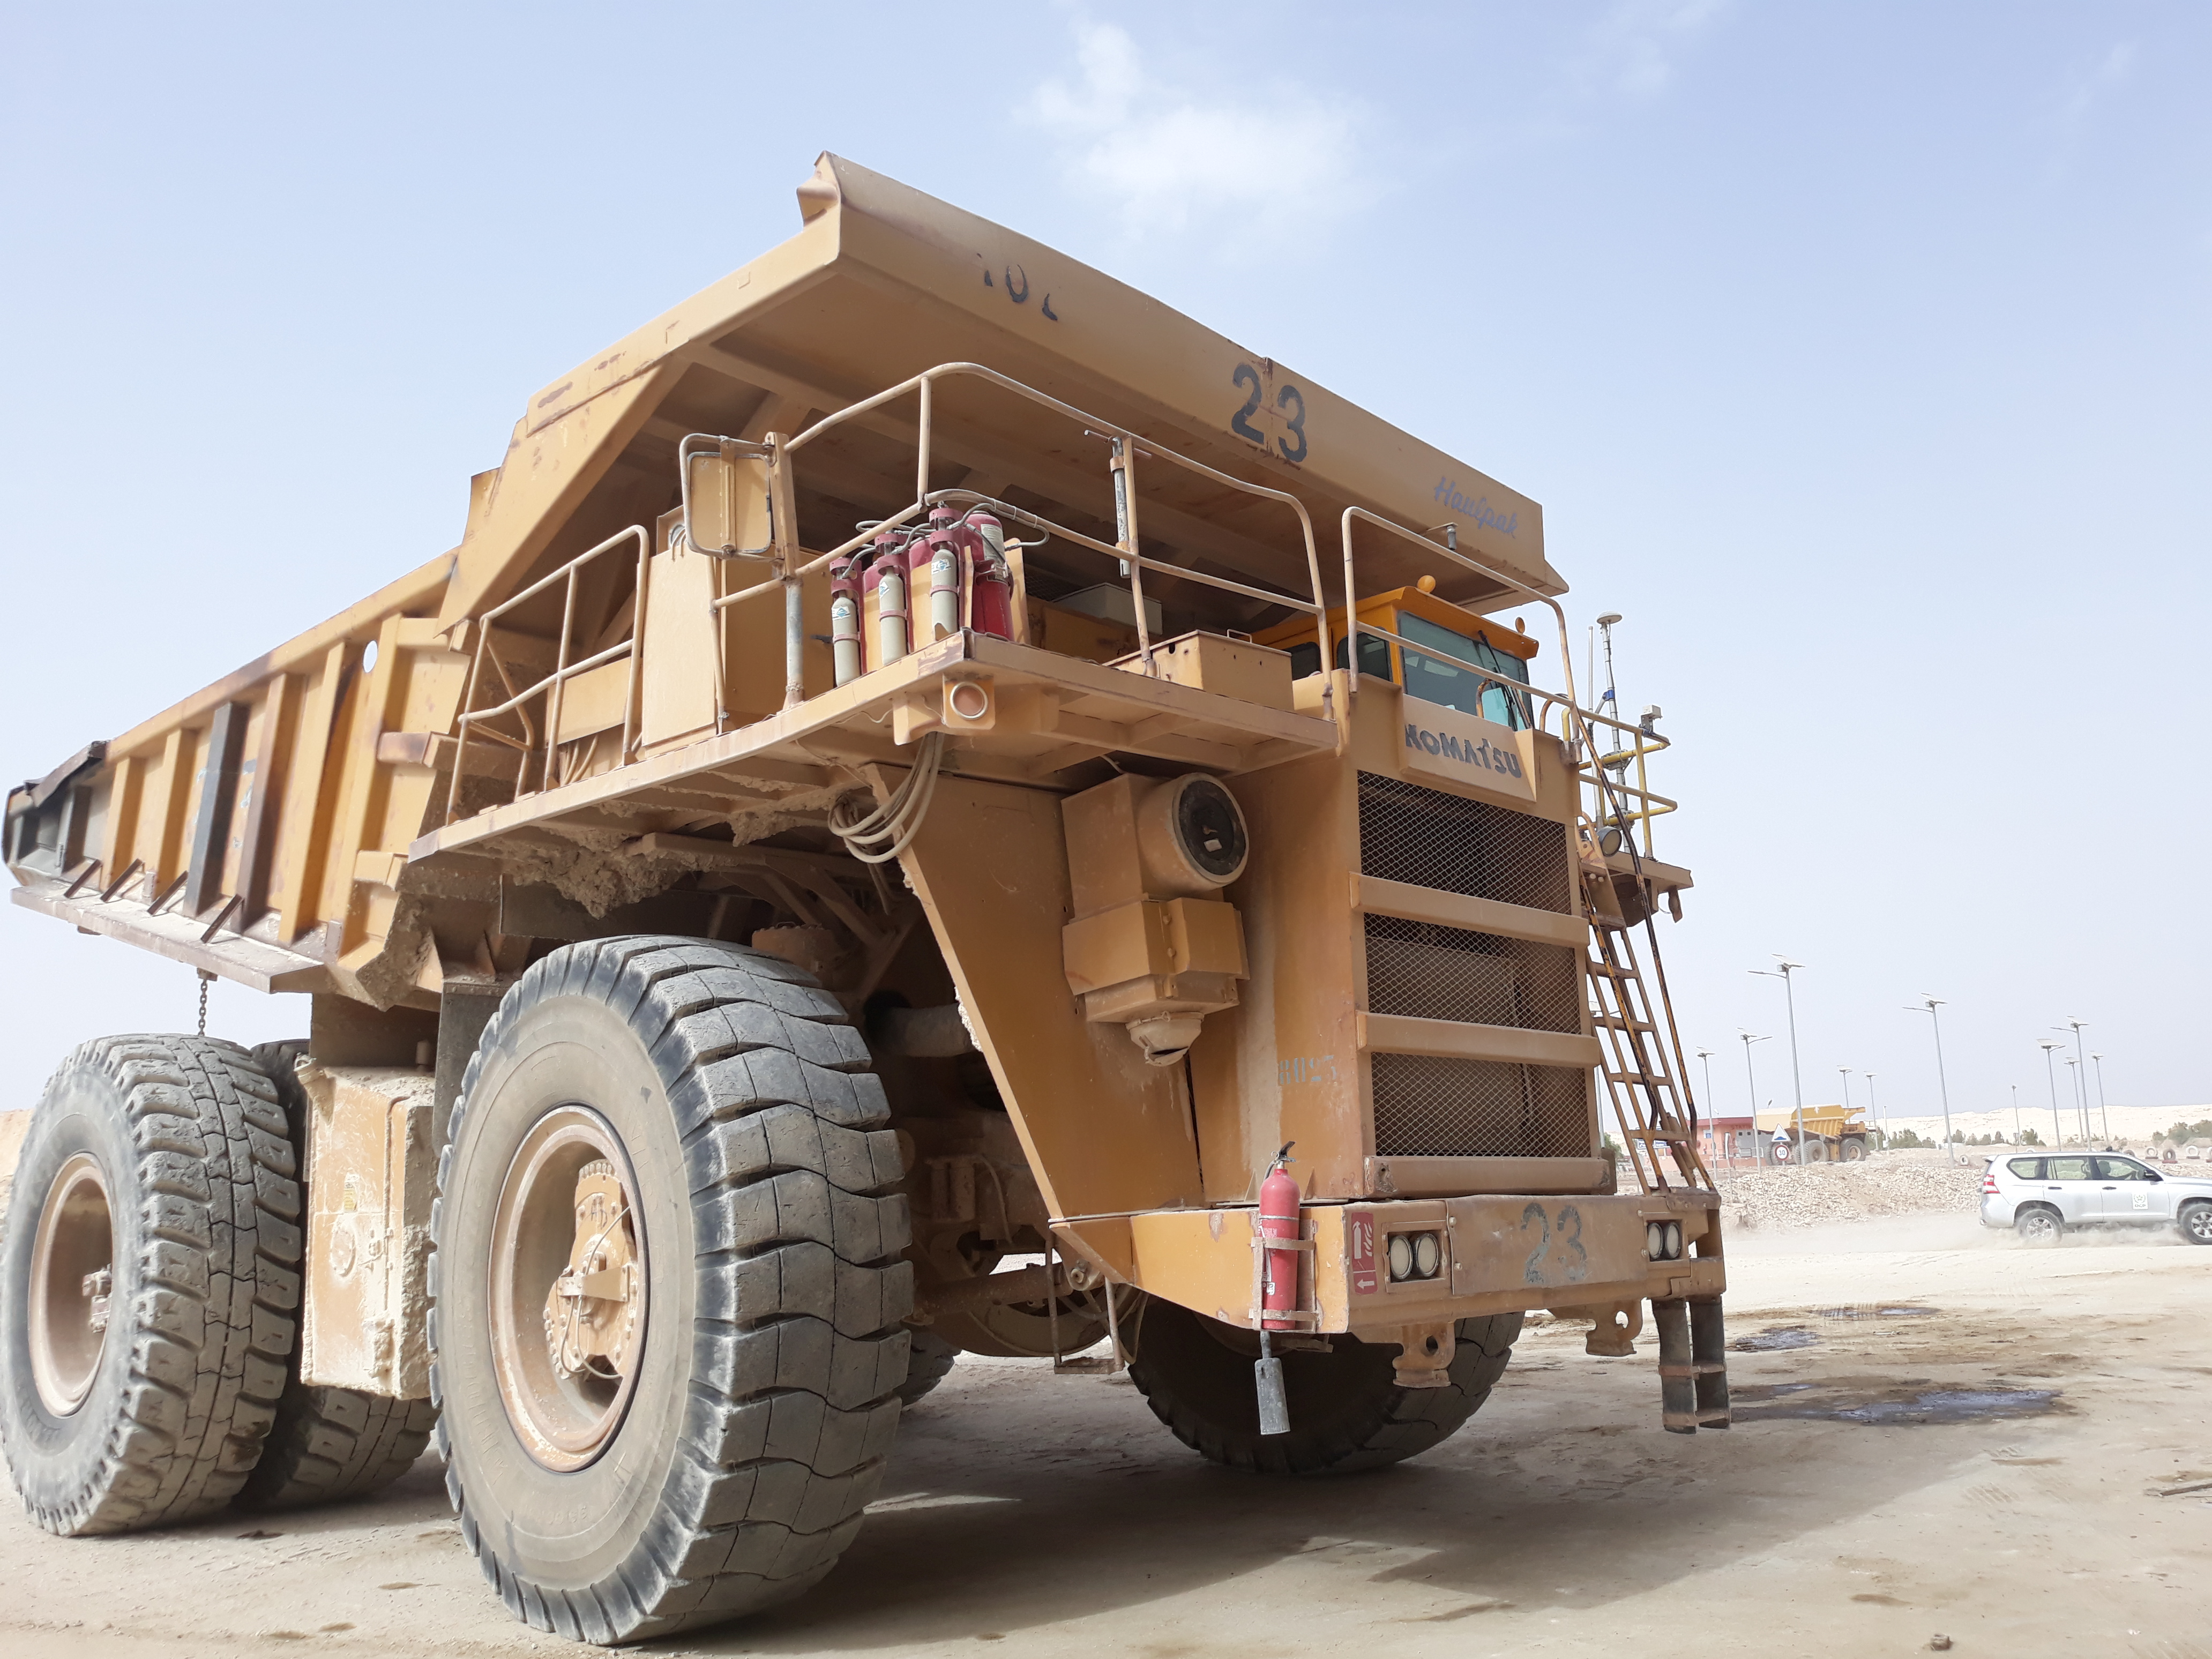camion: (0, 141, 1756, 1642), (1735, 1094, 1890, 1185)
car: (1963, 1138, 2212, 1256)
